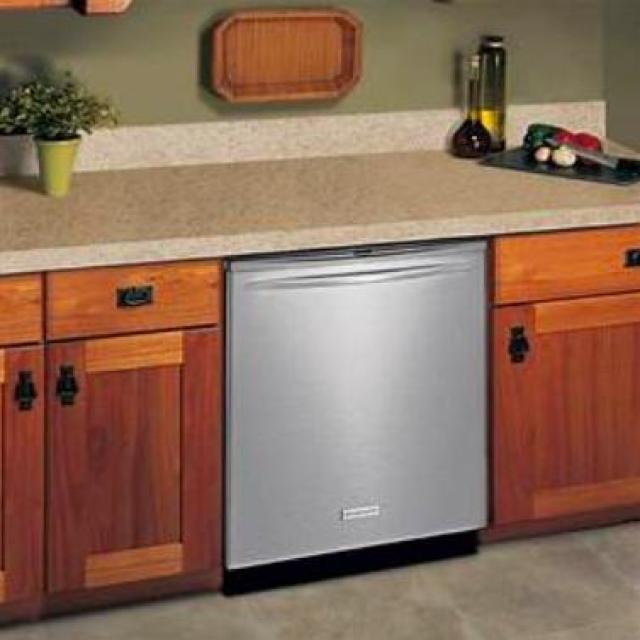dishwasher: (222, 232, 490, 572)
